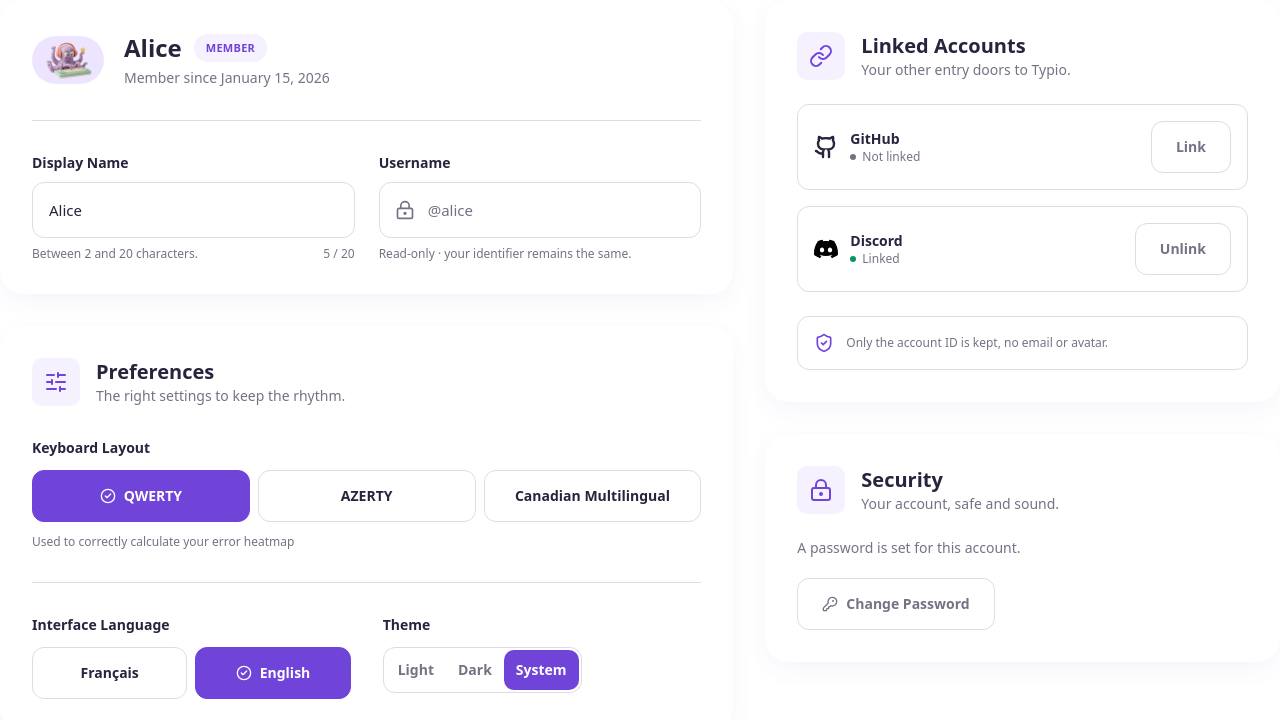
ProfileForm (en) › envoie la disposition cmf (valeur de la base) et rien d'autre que les trois réglages
The image size is (1280, 720).
Click the radio button labelled "Canadian Multilingual" at x=592, y=496, box [484,470,701,522]
(page scrolled)
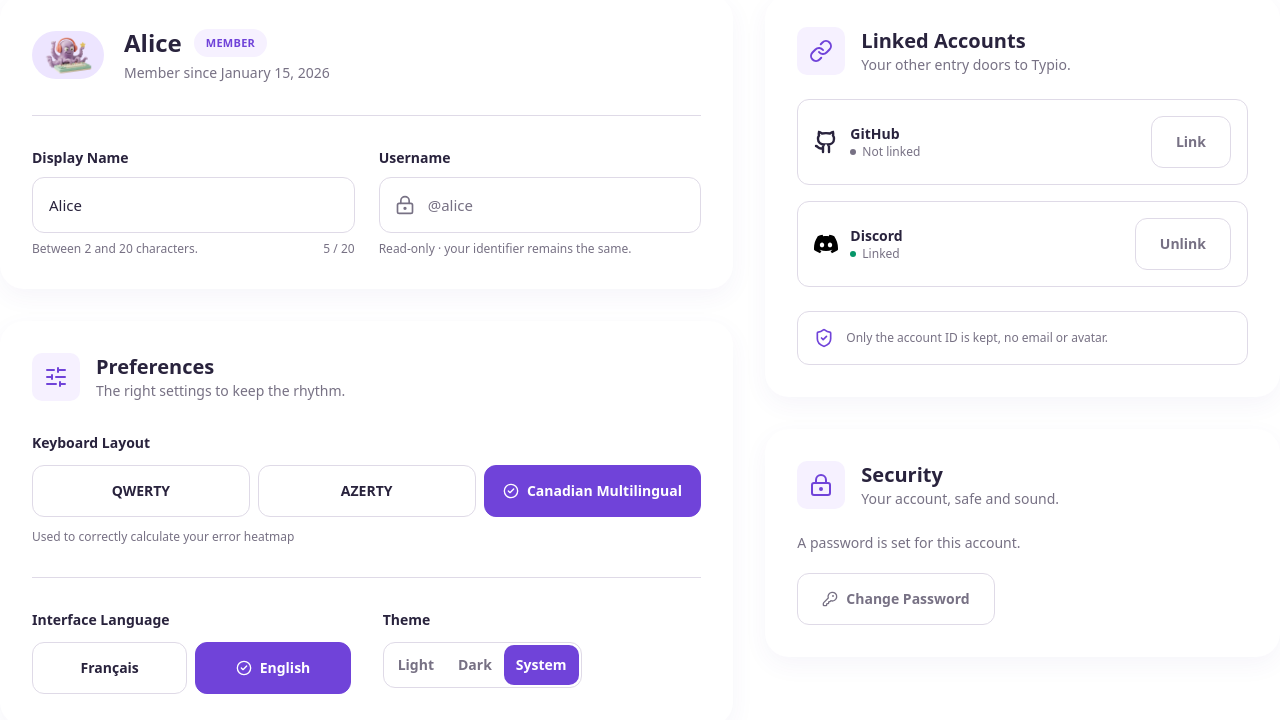
Submit the form "Display Name"
(page scrolled)
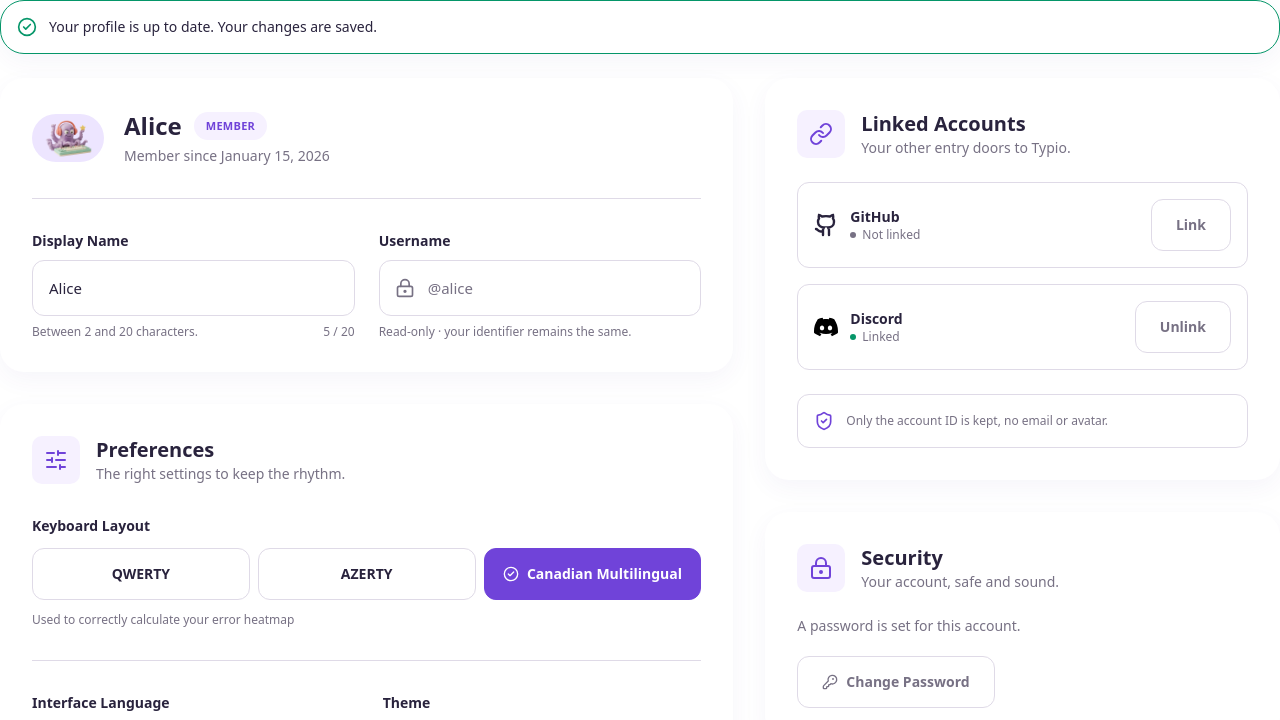
Expected: the text "Your profile is up to date. Your changes are saved." is shown, [49,17,377,37]
